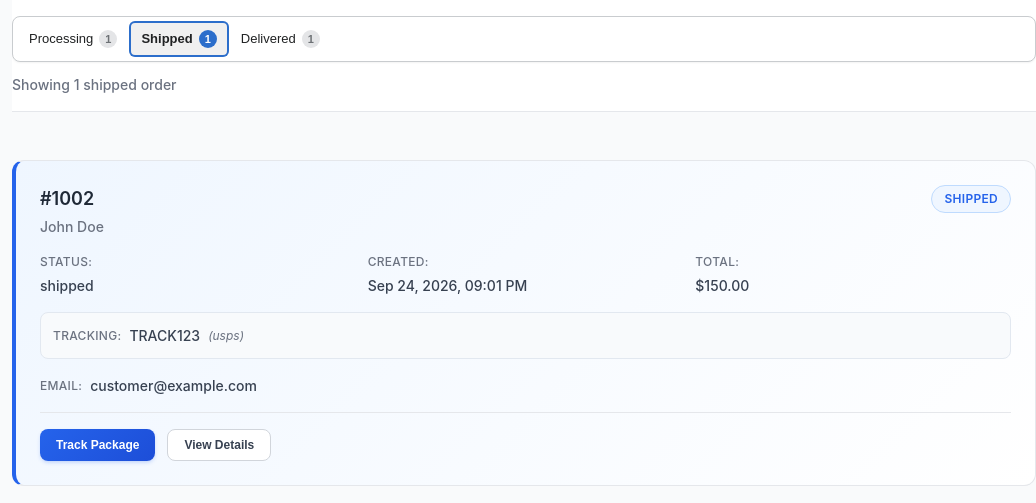
Test: OrdersTab Component › Edge Cases › should handle single order in each status
Expected: the text "Showing 1 shipped order" is shown, 12,76 -> 176,93
# Check Processing (singular)
Step 1. Click the text "Processing" → (61, 39), box 29,29 -> 93,49
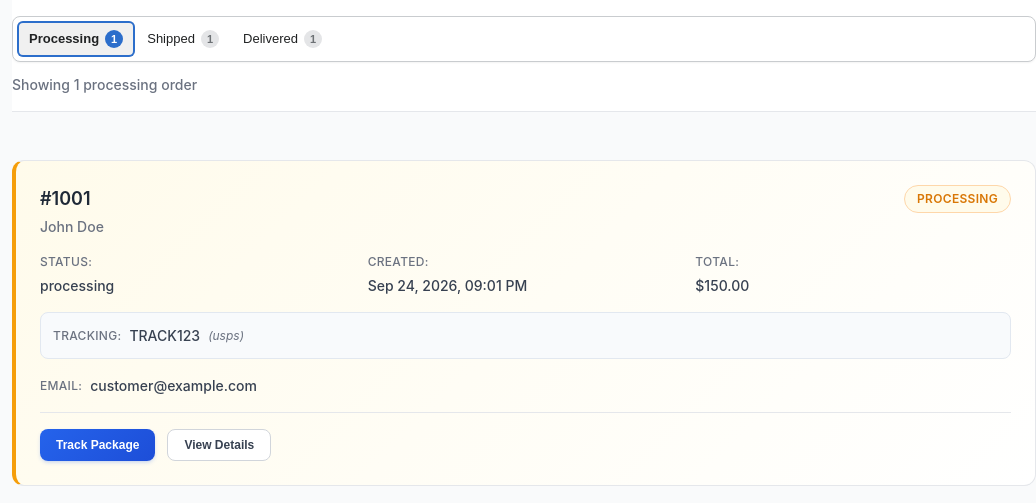
Now the text "Showing 1 processing order" is shown, box 12,76 -> 197,93
# Check Delivered (singular)
Step 2. Click the text "Delivered" → (271, 39), box 243,29 -> 298,49
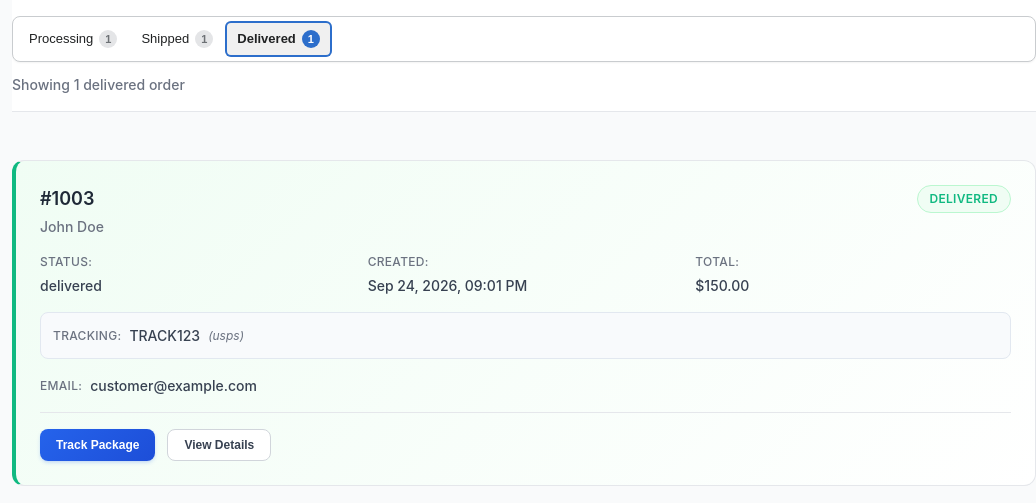
Now the text "Showing 1 delivered order" is shown, box 12,76 -> 185,93
